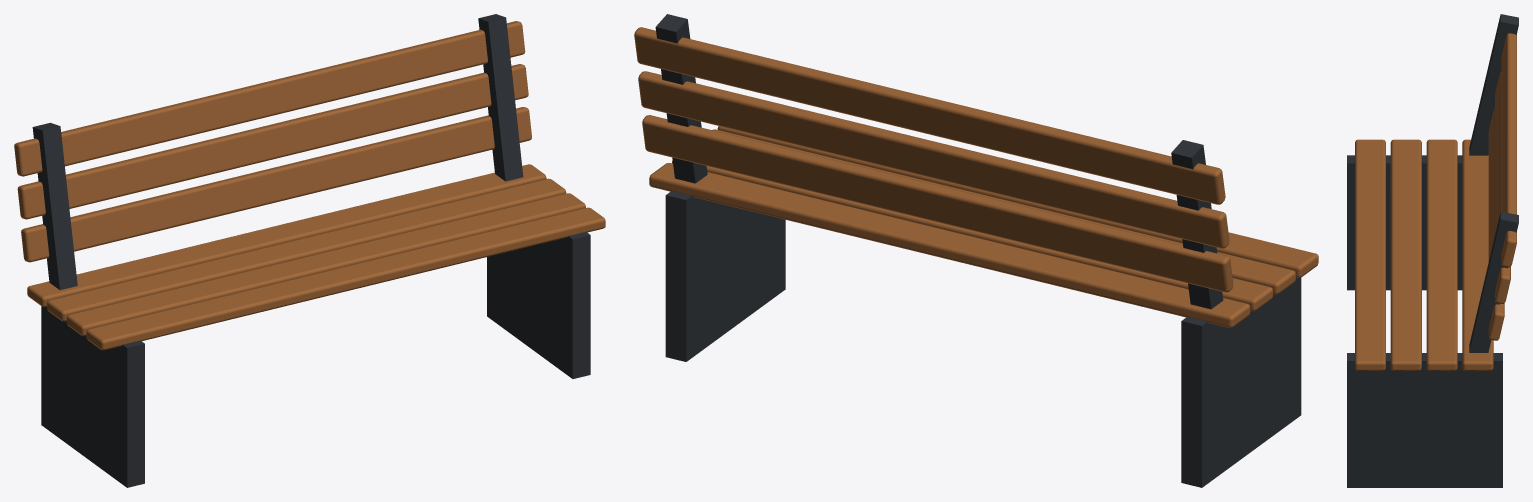
Rendered from bench.glb.
3 views of the same model, side by side, from view 1: azimuth 30°, elevation 25°; view 2: azimuth 150°, elevation 25°; view 3: azimuth 270°, elevation 25° (orthographic). The views are drawn at different scales.
Visible parts, largest first — view 1: main; view 2: main; view 3: main.
Part boxes in pixels (x1,y1,x2,y2): main: (14, 14, 605, 487); main: (634, 14, 1318, 487); main: (1347, 14, 1518, 487).
Size of the model in its own units: 1.7 by 0.9508 by 0.5513.
